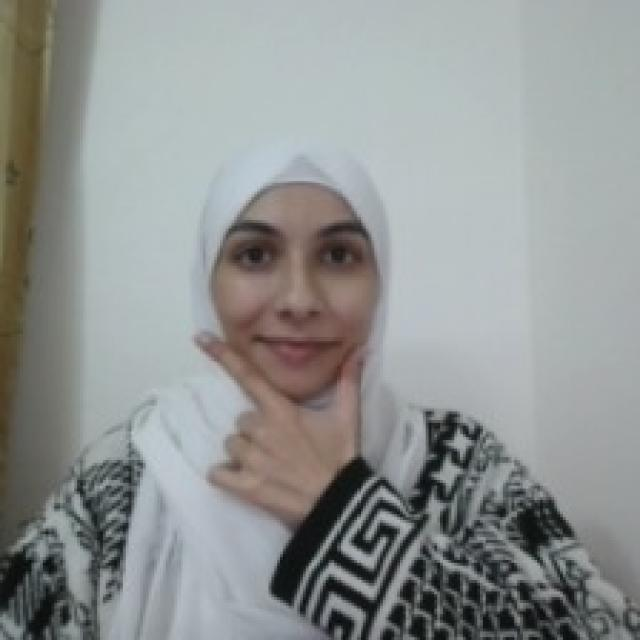smile: (189, 322, 373, 467)
